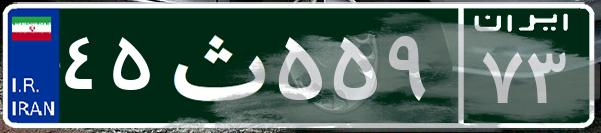3: (525, 38, 570, 115)
4: (57, 26, 110, 107)
5: (273, 28, 330, 110), (330, 28, 385, 110), (110, 28, 158, 105)
7: (475, 38, 525, 113)
9: (385, 28, 445, 110)
ث: (158, 15, 273, 115)
